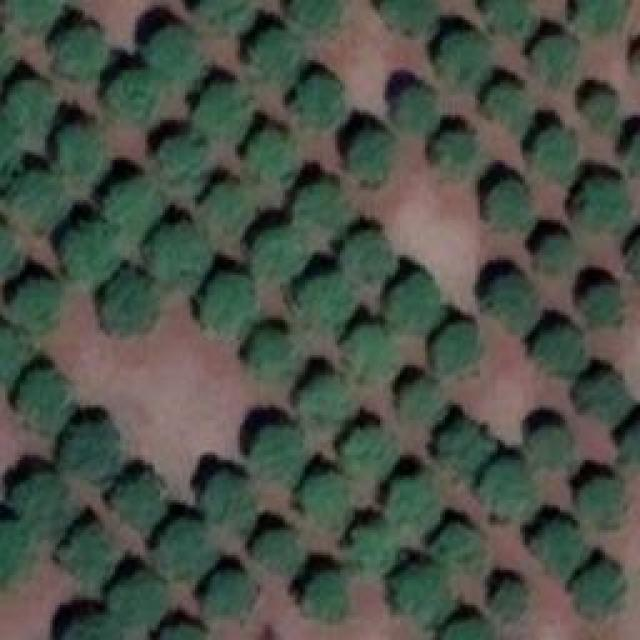Tree: (143, 220, 216, 293), (105, 567, 168, 635), (155, 515, 218, 583), (475, 448, 533, 521), (375, 473, 440, 538), (102, 270, 160, 338), (15, 367, 70, 435), (15, 468, 73, 531), (60, 520, 118, 583), (392, 560, 450, 623), (200, 565, 260, 625), (342, 323, 400, 383), (485, 268, 540, 331), (145, 22, 203, 80), (50, 20, 105, 80), (200, 78, 250, 143), (110, 467, 165, 525), (292, 370, 350, 425), (477, 178, 535, 233), (105, 175, 158, 235), (528, 123, 581, 183), (255, 418, 303, 483), (53, 125, 106, 183), (205, 275, 258, 333), (64, 218, 115, 278), (295, 270, 350, 325), (435, 28, 490, 83), (205, 473, 255, 533), (343, 420, 393, 480), (348, 125, 398, 185), (393, 275, 443, 335), (8, 173, 61, 228), (573, 560, 626, 615), (435, 418, 488, 473), (578, 173, 631, 228), (245, 528, 303, 578), (240, 130, 293, 183), (290, 183, 343, 236), (65, 417, 113, 475), (575, 270, 625, 325), (108, 68, 161, 118), (10, 275, 58, 330), (2, 78, 50, 133), (245, 27, 300, 75), (160, 130, 208, 183), (300, 568, 348, 621), (577, 470, 625, 523), (253, 228, 303, 278), (578, 373, 628, 423), (188, 0, 253, 38), (0, 517, 32, 592), (533, 515, 583, 563), (207, 180, 255, 230), (427, 320, 475, 370), (480, 80, 530, 128), (303, 473, 348, 526), (340, 228, 385, 281), (347, 520, 395, 568), (440, 525, 483, 578), (540, 323, 585, 373), (530, 35, 580, 80), (388, 85, 438, 128), (0, 0, 58, 35), (295, 78, 340, 123), (245, 328, 290, 373), (55, 612, 125, 640), (395, 375, 438, 420), (430, 125, 475, 168), (290, 0, 343, 35), (533, 423, 573, 468), (435, 615, 503, 640), (493, 577, 528, 625), (578, 85, 621, 123), (535, 230, 573, 268), (620, 412, 640, 470), (0, 322, 18, 380), (622, 128, 640, 183), (0, 227, 20, 275), (158, 622, 203, 640), (625, 233, 640, 283)
